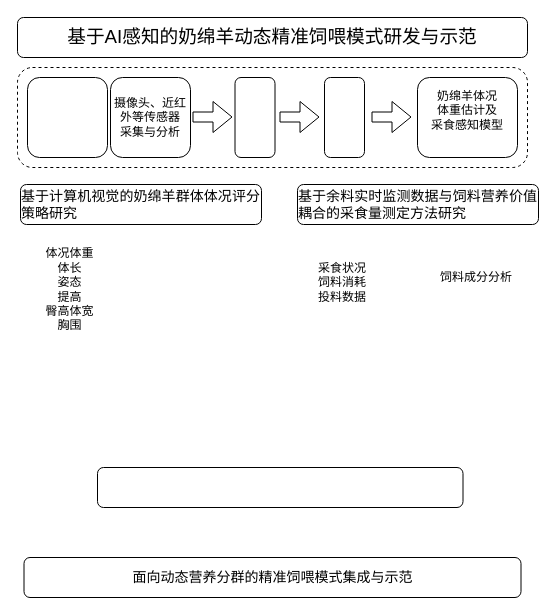
The diagram is 556 pixels wide and 615 high, and some of its shapes have lost their labels. Here are the shapes that lost their labels. From the top down, the box of each, then its label:
(26, 76, 108, 158): 基于AI感知的奶绵羊体况体重与采食数据系统开发
(234, 76, 275, 158): 预 处 理
(324, 76, 364, 158): 特征 提取
(96, 466, 463, 508): 基于奶绵羊营养需要的动态分群实现精准饲喂的模式研究
